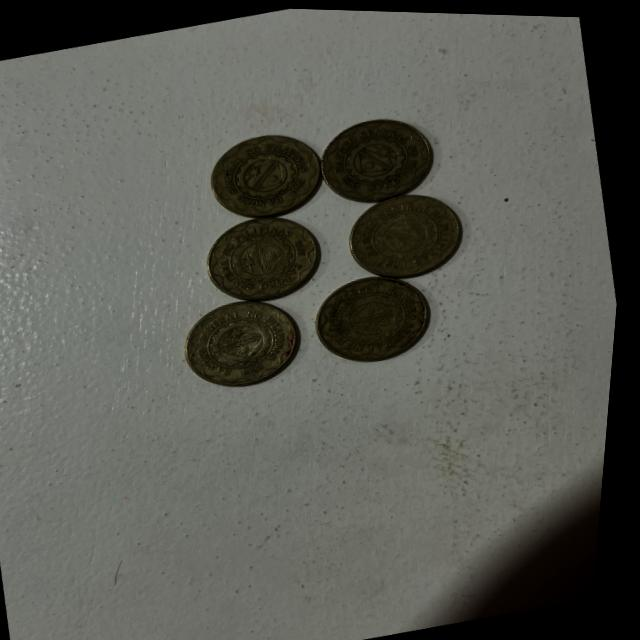5_Old_Back: (179, 288, 310, 398), (311, 264, 441, 370), (201, 204, 329, 309), (313, 106, 440, 209), (343, 182, 470, 282), (202, 123, 329, 222)
